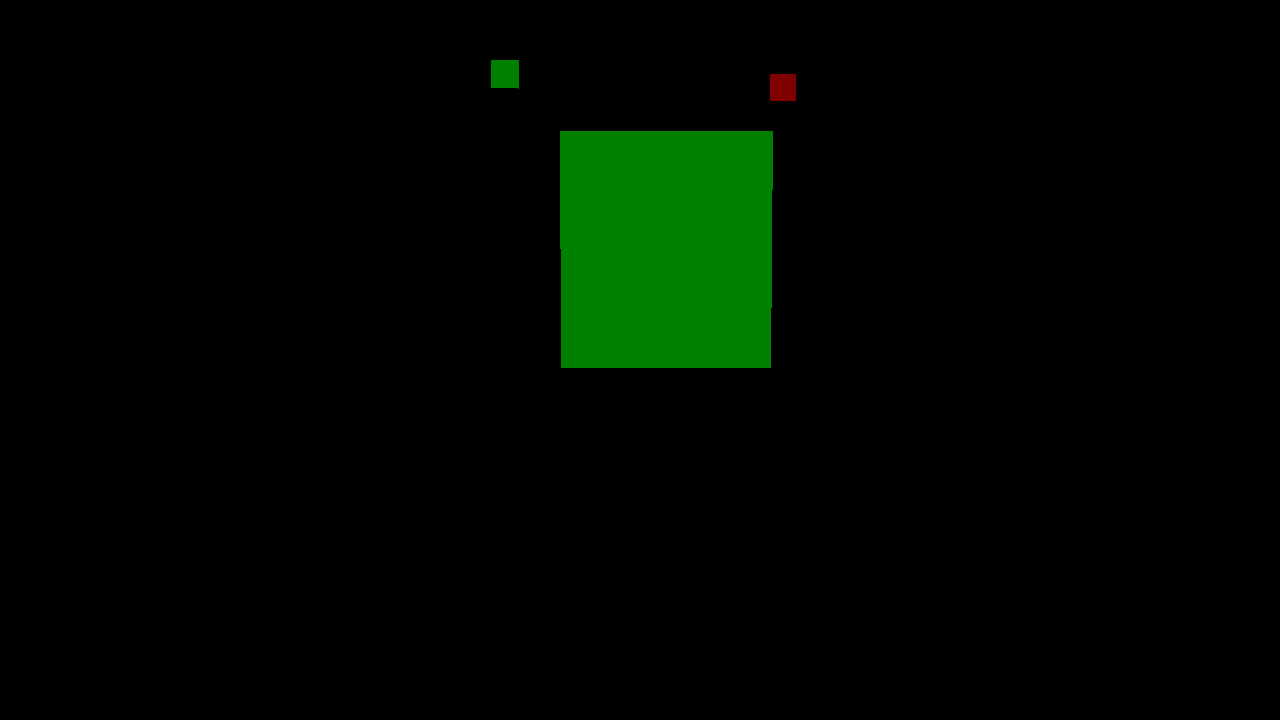door: (560, 131, 772, 367)
sign: (491, 60, 518, 88), (770, 74, 795, 100)
